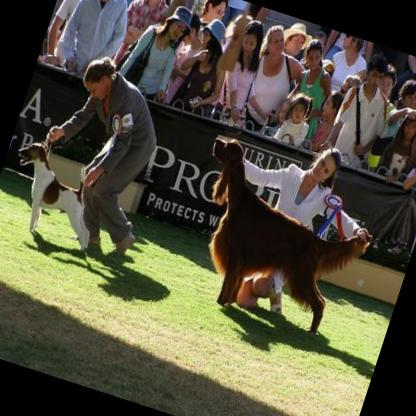Irish_setter: (166, 135, 384, 342)
